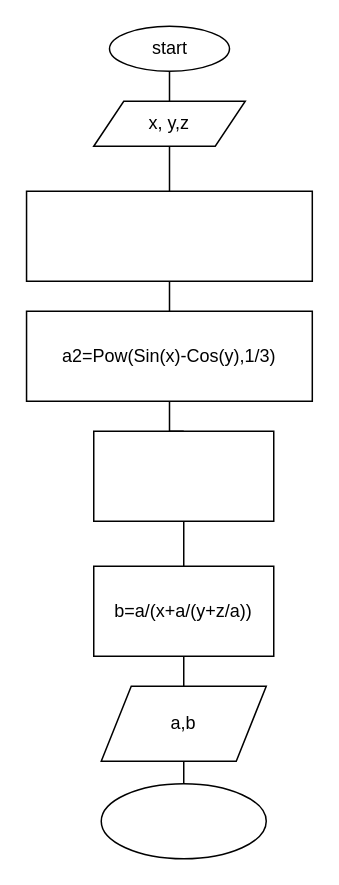
The diagram is 339 pixels wide and 885 high, and some of its shapes have lost their labels. The shapes that lost their labels are listed below. From the top down, each one's box as (x1, y1, x2, y2) in pixels, then its label:
(25, 190, 312, 281): a1=Sqrt(x^3+5*y^(-z)+z^2)
(92, 430, 274, 521): a=a1-a2
(100, 782, 266, 859): end
